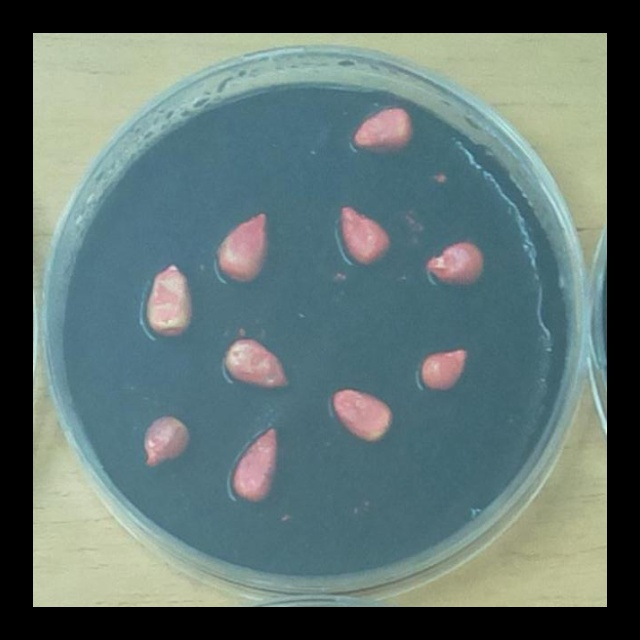Zea mays: (211, 206, 276, 292), (224, 421, 285, 509), (217, 332, 296, 398), (139, 259, 199, 345), (326, 382, 398, 450), (332, 198, 397, 272), (347, 102, 419, 160), (137, 409, 197, 473), (421, 238, 490, 292), (413, 343, 473, 398)
